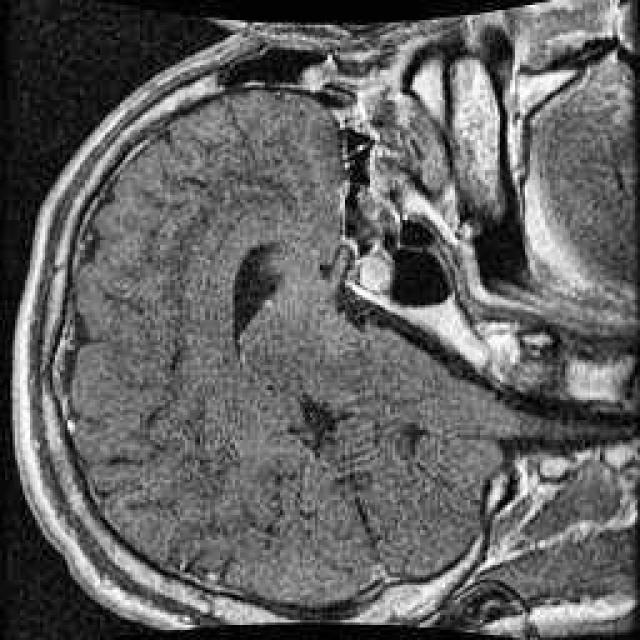Tumor: (335, 235, 420, 318)
